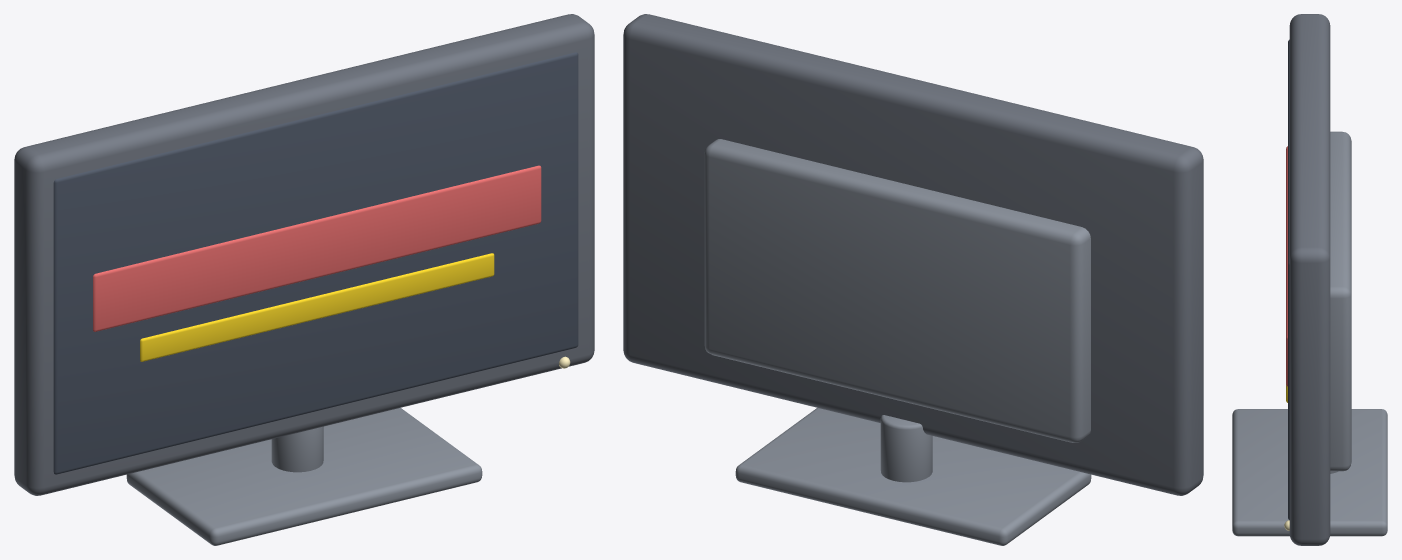
File: SM_Television.fbx
3 renders of one model, left to right at view 1: azimuth 30°, elevation 25°; view 2: azimuth 150°, elevation 25°; view 3: azimuth 270°, elevation 25°, orthographic. The views are drawn at different scales.
Parts seen in each view (by area): view 1: SM_Television; view 2: SM_Television; view 3: SM_Television.
Part boxes in pixels (left/top/right/bottom): SM_Television: left=14, top=14, right=594, bottom=545; SM_Television: left=623, top=14, right=1203, bottom=545; SM_Television: left=1232, top=14, right=1387, bottom=545.
Bounding box in the file's own units: 96 × 64.5 × 26.
